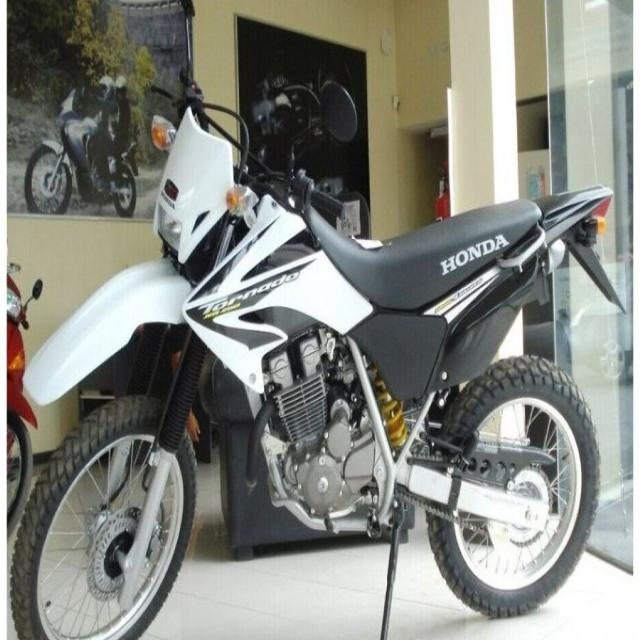Motorcycle: (10, 73, 620, 639)
